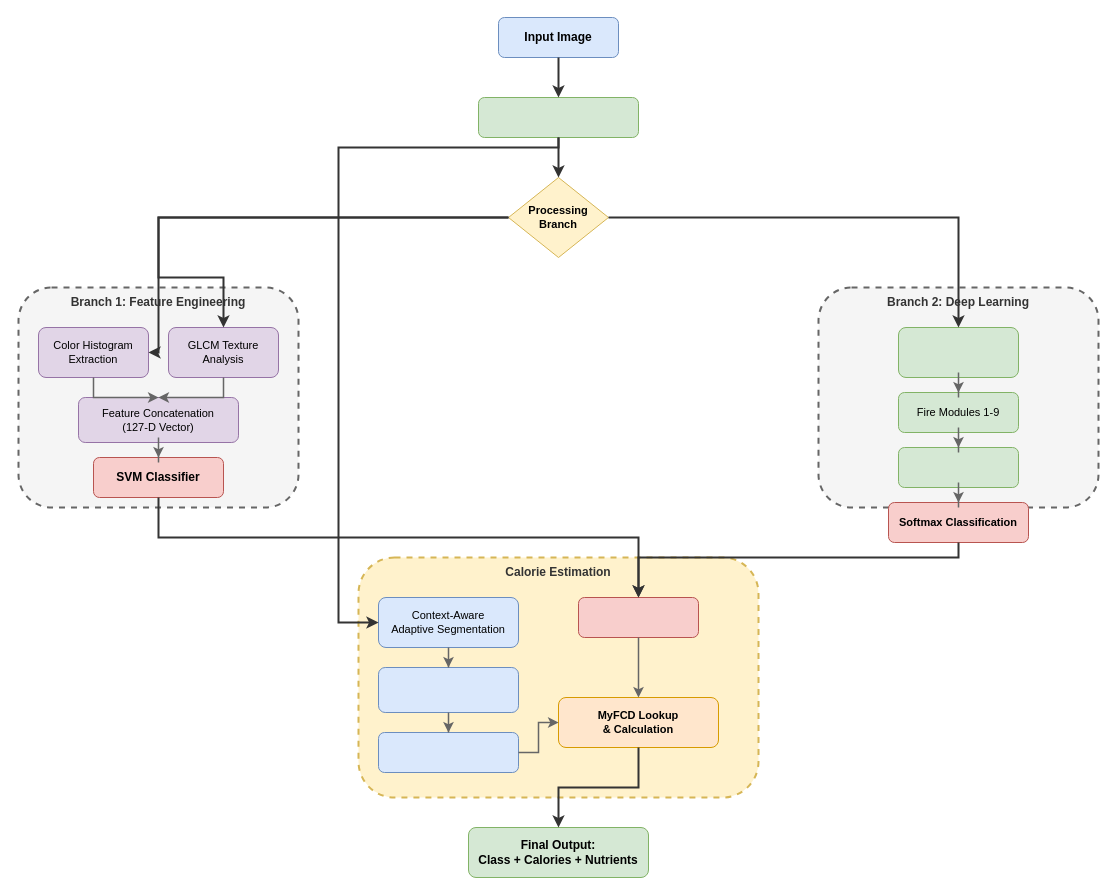
Some shapes in this 1116 by 895 pixel diagram are drawn without their labels. Each missing label, with the centre of its shape:
Area Calculation: [448,752]
Binary Mask Generation: [448,689]
Global Avg Pooling: [958,467]
Predicted Class: [638,617]
Preprocessing Module: [558,117]
SqueezeNet Architecture: [958,352]
